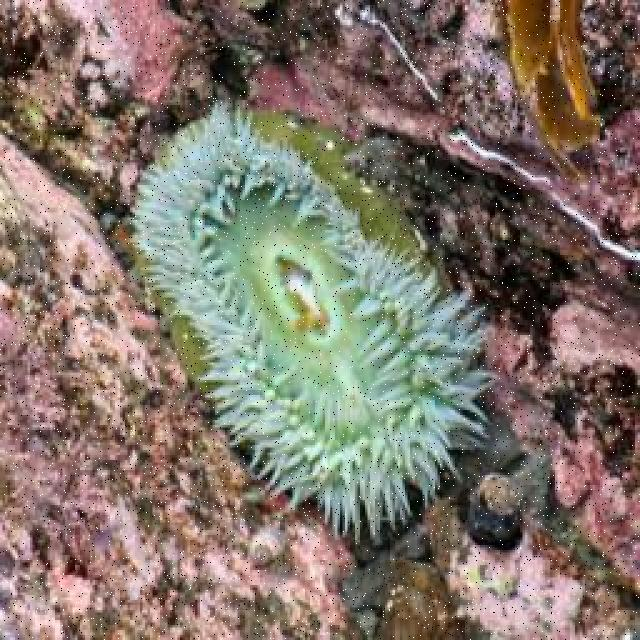reefs: (112, 96, 503, 547)
